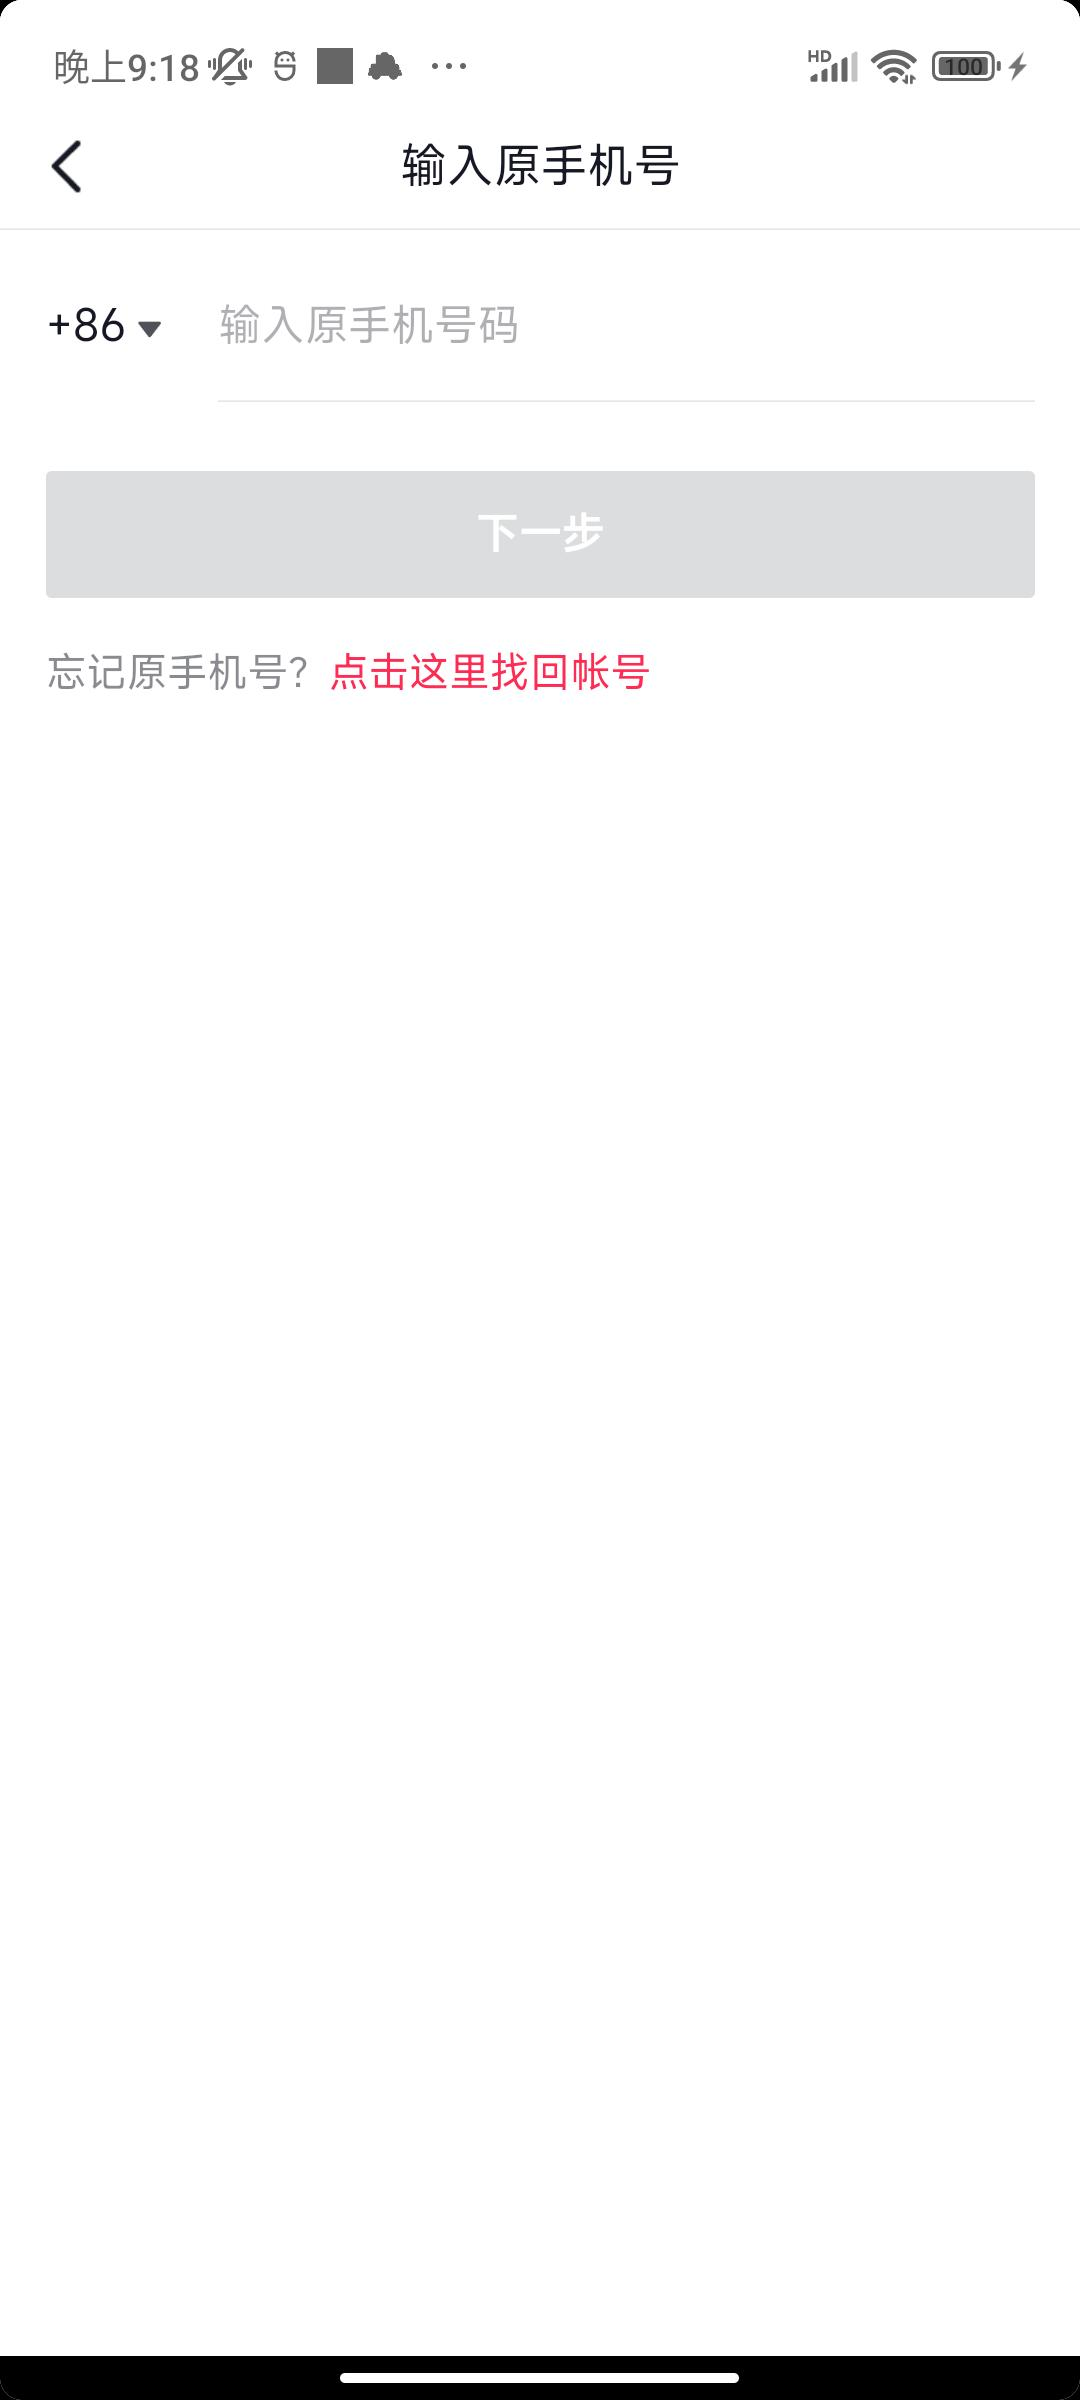ui_group: (12, 124, 1052, 615), (24, 624, 1043, 722)
